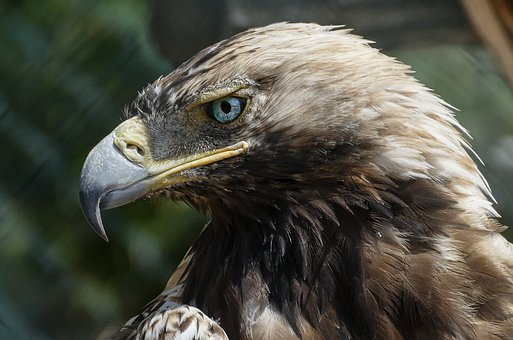bird: (67, 12, 505, 340)
